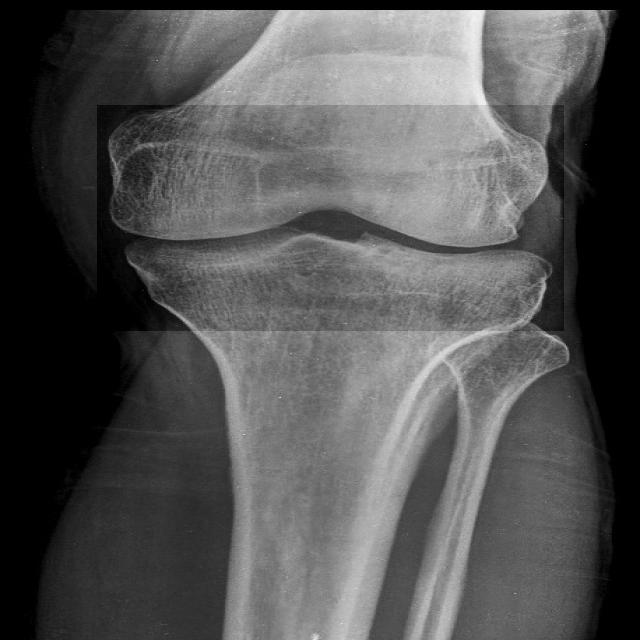osteo: (97, 105, 564, 331)
